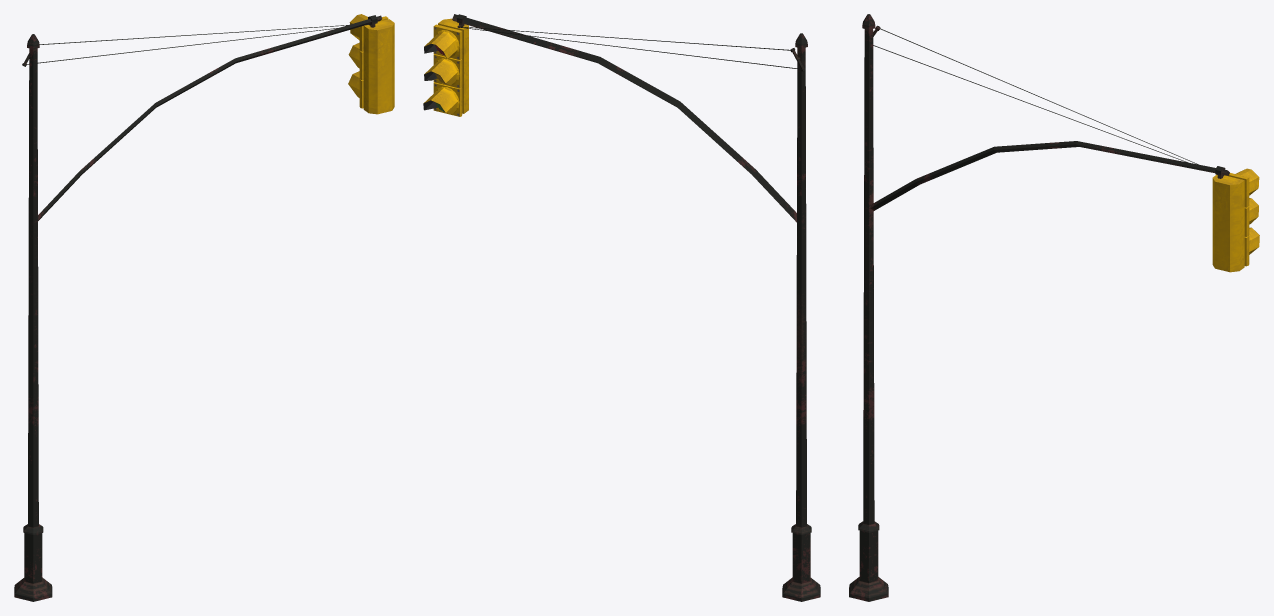
Rendered from TRF0410004.fbx.
3 renders of one model, left to right at view 1: azimuth 30°, elevation 25°; view 2: azimuth 150°, elevation 25°; view 3: azimuth 330°, elevation 25°, orthographic. The views are drawn at different scales.
Parts seen in each view (by area): view 1: smTRF0410004; view 2: smTRF0410004; view 3: smTRF0410004.
Part boxes in pixels (x1,y1,x2,y2): smTRF0410004: (14,14,394,601); smTRF0410004: (423,14,820,601); smTRF0410004: (849,14,1259,601).
Bounding box in the file's own units: 395 × 555 × 55.15.
Materials: 1 (1 with a texture image).
